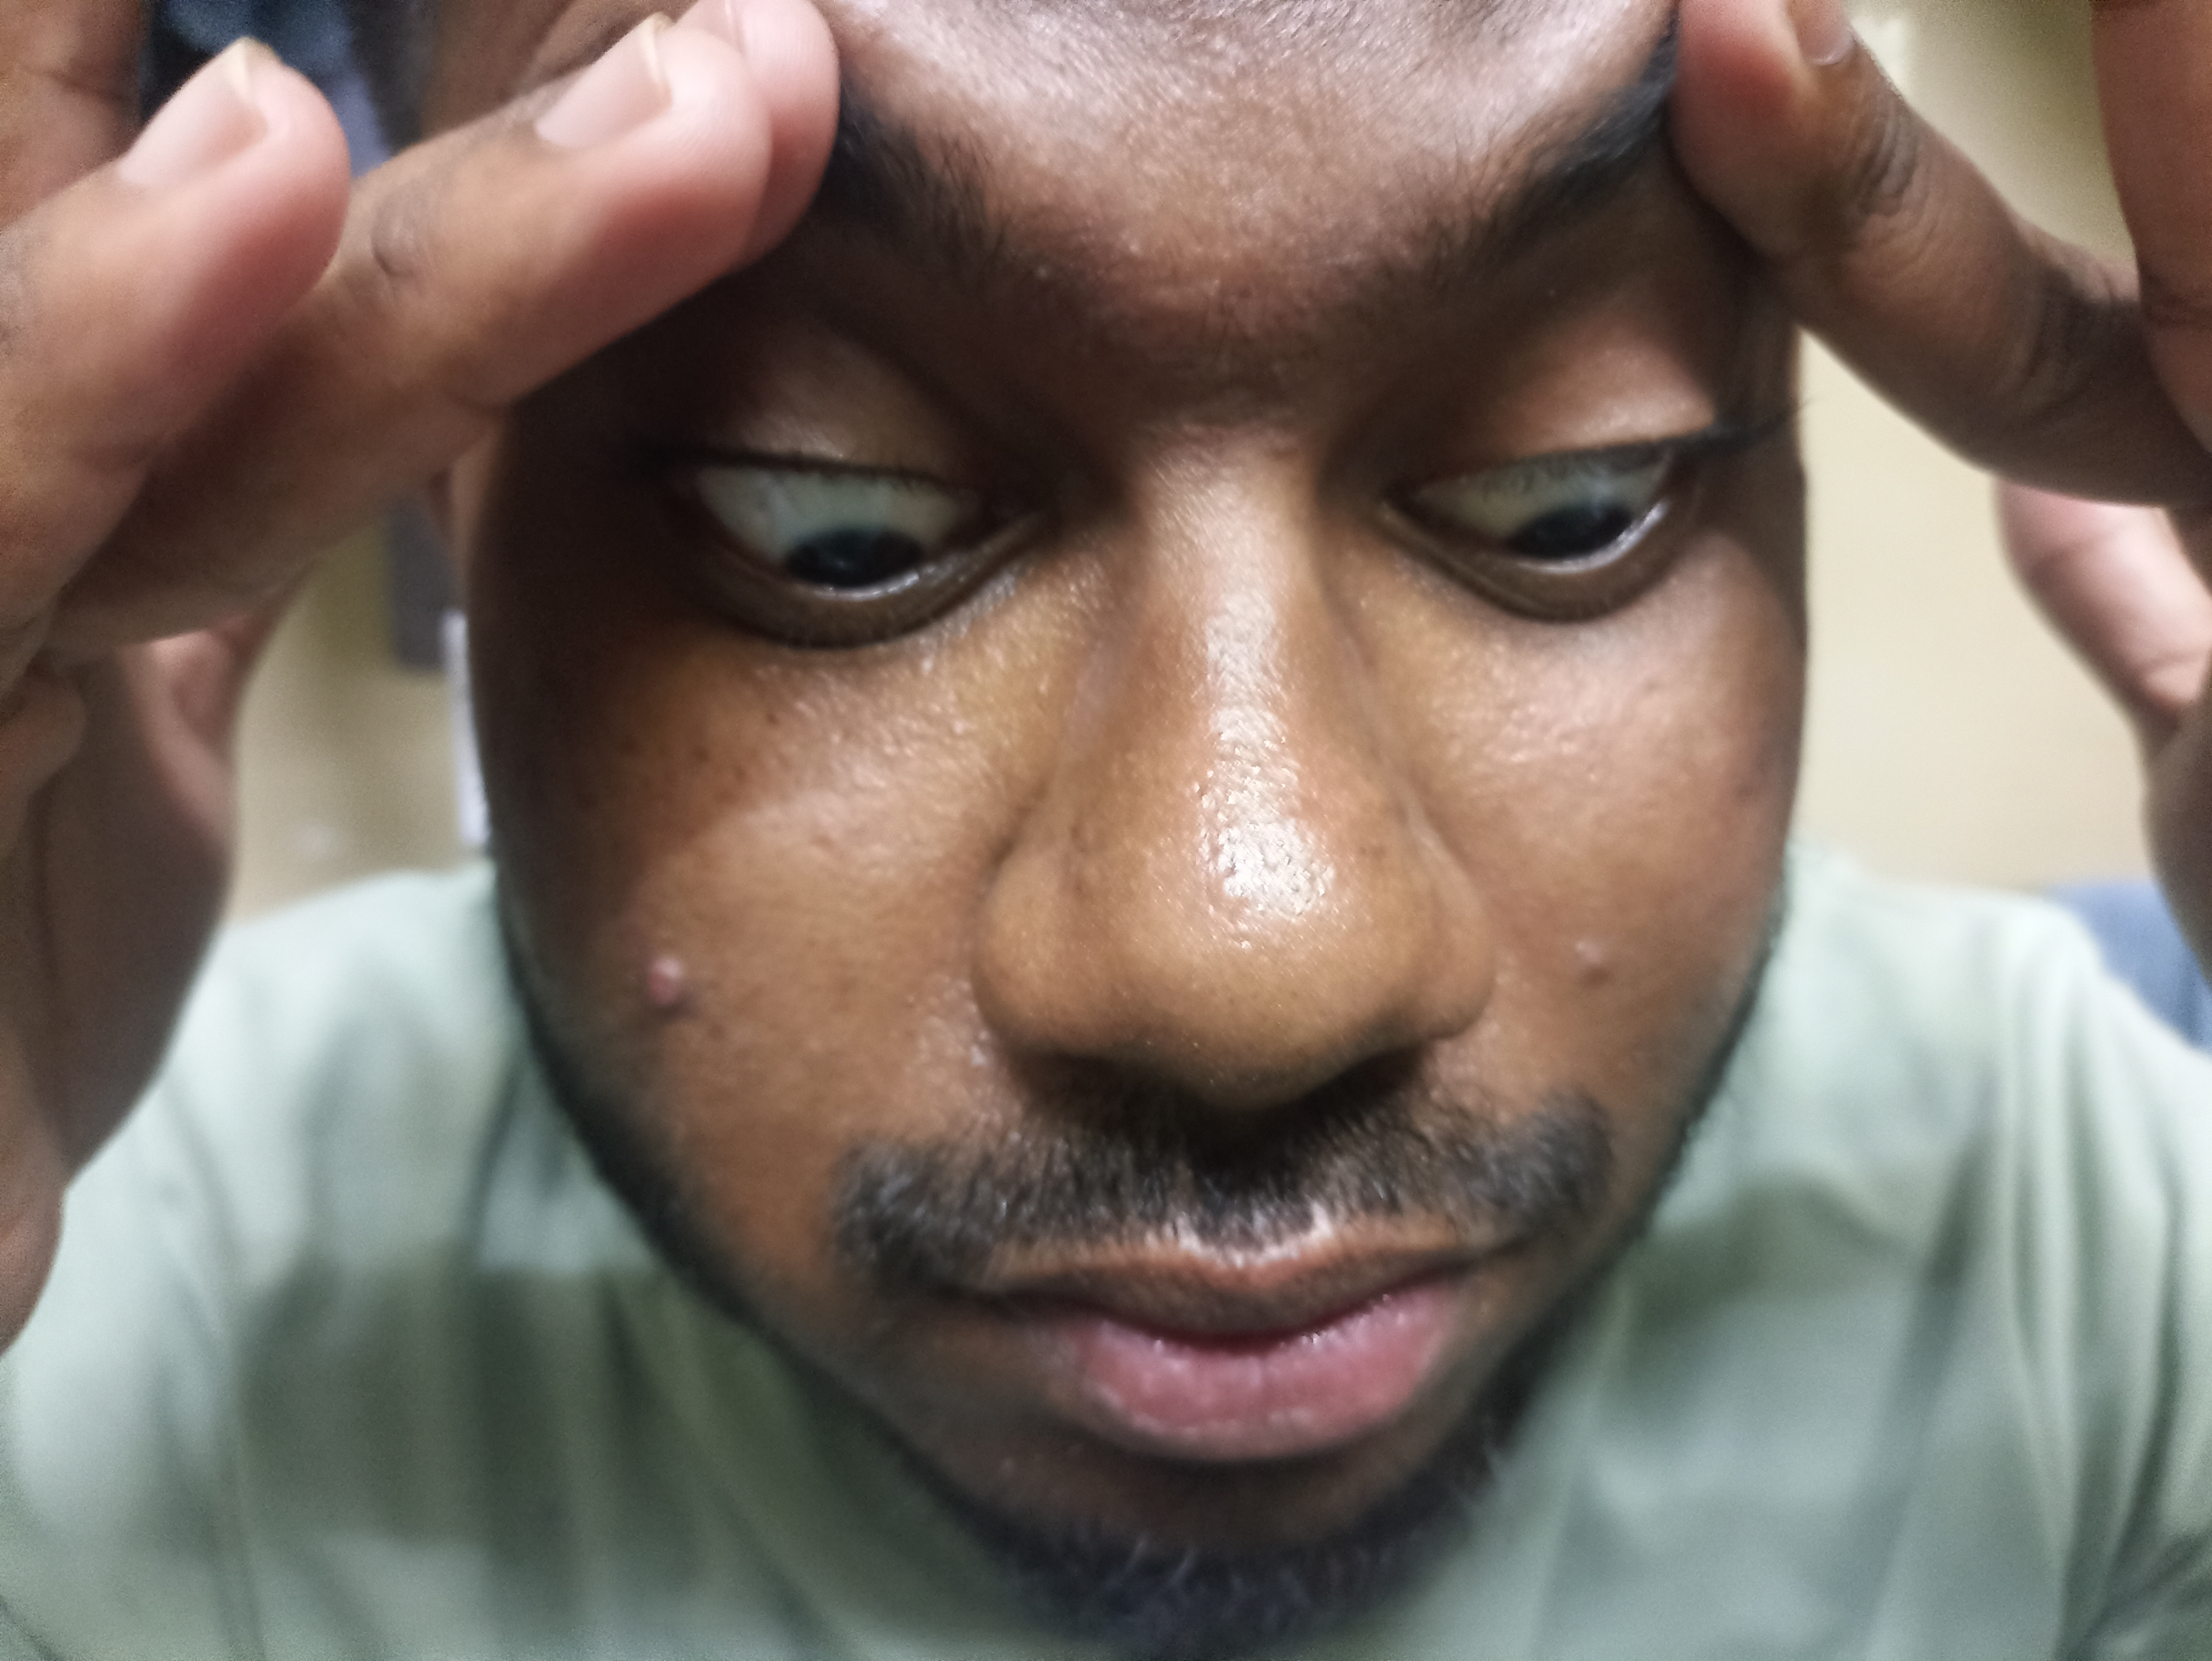EYE DOWN: (272, 169, 1228, 771), (1294, 162, 2004, 811)
